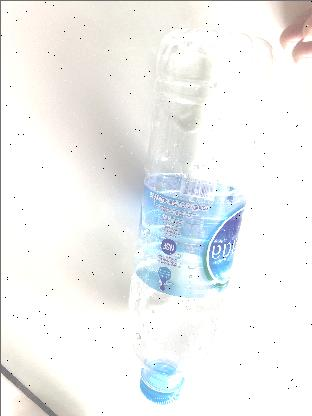Plastic Bottle: (120, 23, 278, 408)
